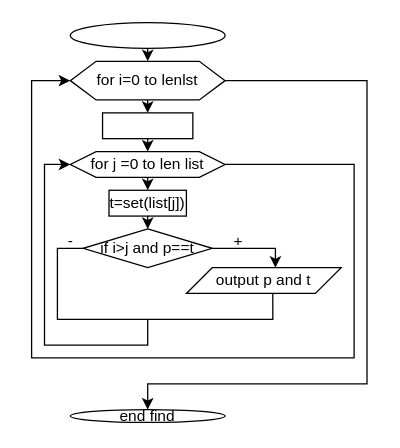
Some shapes in this 400 by 448 pixel diagram are drawn without their labels. Each missing label, with the centre of its shape:
begin find: point 147,34
p=set(list[i]): point 147,125
